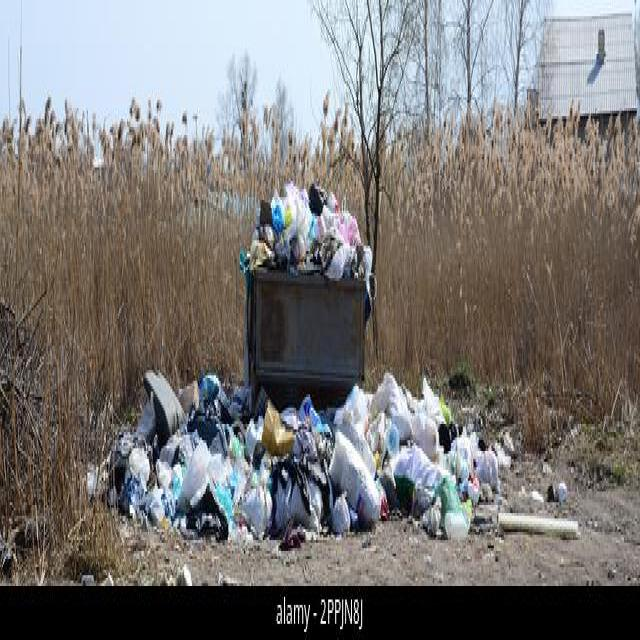trash: (91, 186, 508, 532)
